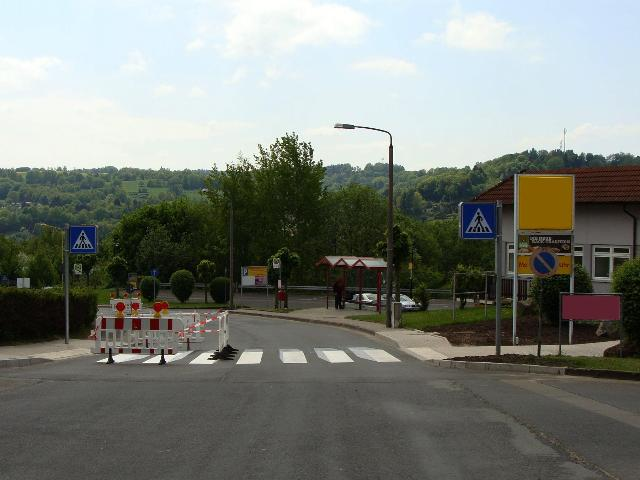crosswalk-sign: (461, 203, 498, 241), (70, 226, 99, 255)
